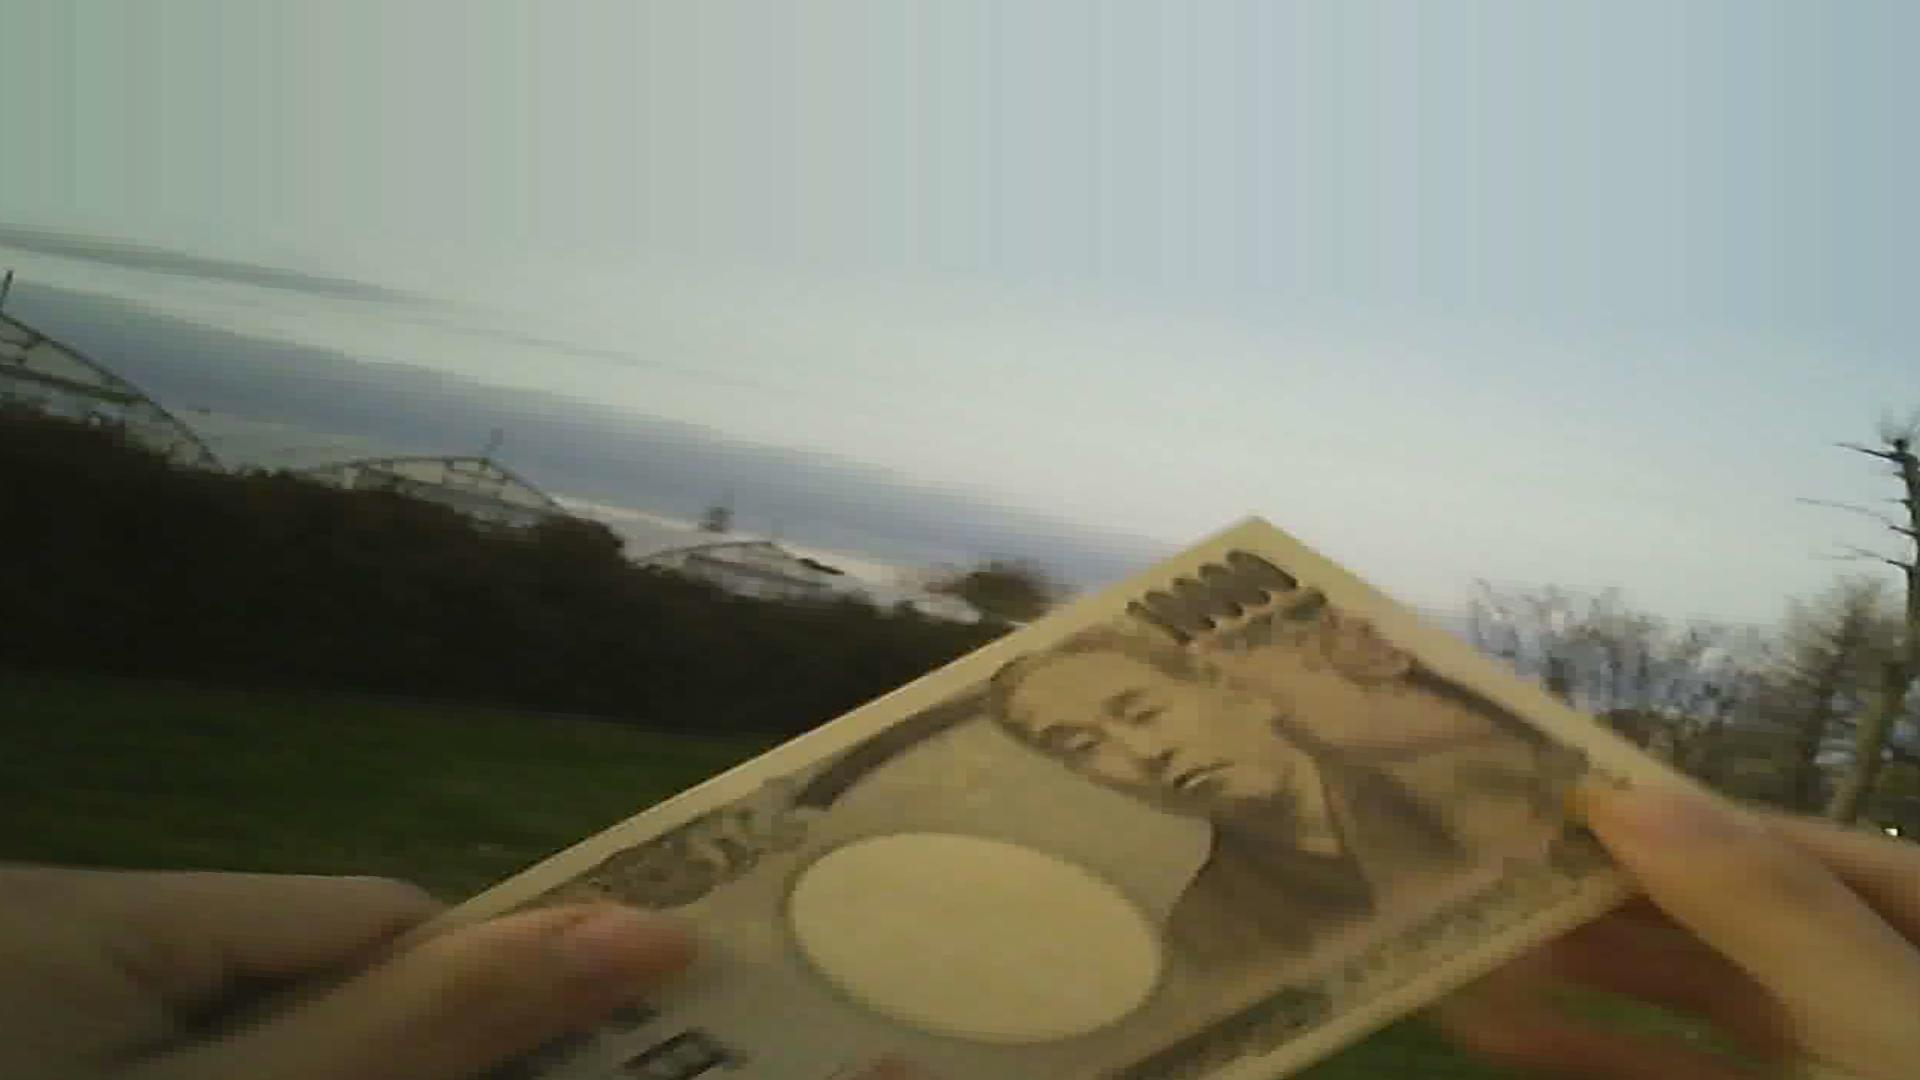10,000 Yen: (438, 465, 1714, 1071)
